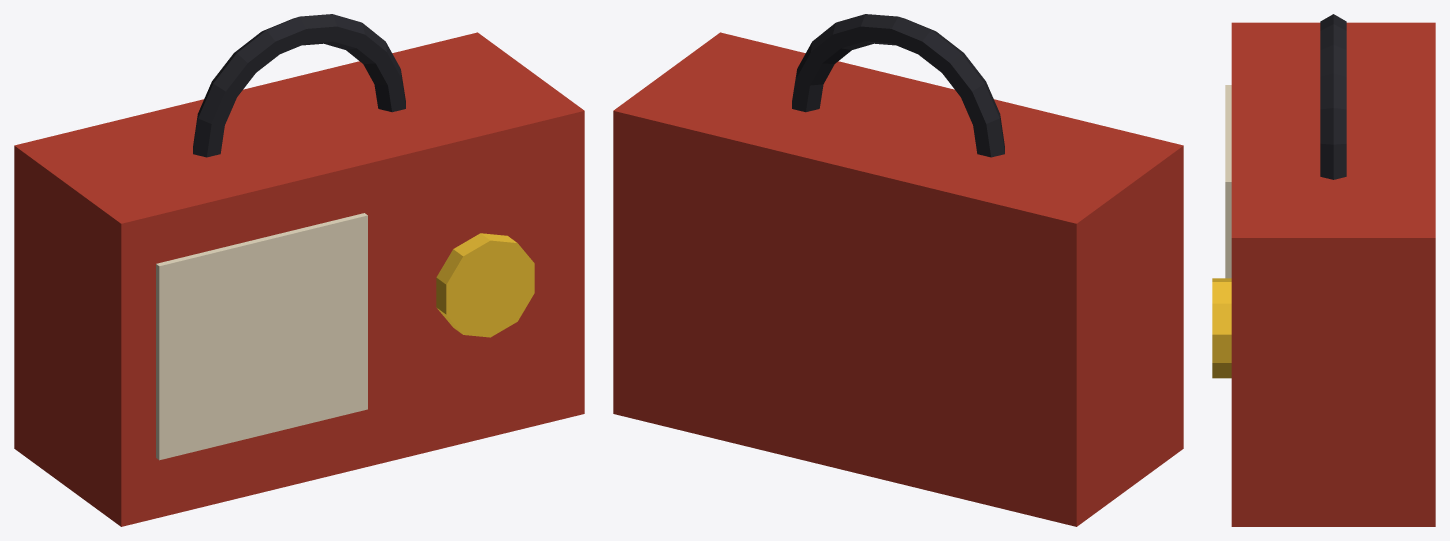
The model's file is pawn_radio.glb.
3 renders of one model, left to right at view 1: azimuth 30°, elevation 25°; view 2: azimuth 150°, elevation 25°; view 3: azimuth 270°, elevation 25°, orthographic. The views are drawn at different scales.
Parts seen in each view (by area): view 1: box_pawn_radio_red, grill_pawn_radio_grill, handle_pawn_radio_handle, dial_pawn_radio_dial; view 2: box_pawn_radio_red, handle_pawn_radio_handle; view 3: box_pawn_radio_red, handle_pawn_radio_handle, dial_pawn_radio_dial, grill_pawn_radio_grill.
Boxes of the visible parts, x1,y1,x2,y2 form: box_pawn_radio_red: (14,32,584,526); grill_pawn_radio_grill: (156,213,367,460); handle_pawn_radio_handle: (193,14,405,157); dial_pawn_radio_dial: (436,233,534,337); box_pawn_radio_red: (613,32,1183,526); handle_pawn_radio_handle: (792,14,1004,157); box_pawn_radio_red: (1231,22,1435,526); handle_pawn_radio_handle: (1320,14,1346,179); dial_pawn_radio_dial: (1212,278,1231,378); grill_pawn_radio_grill: (1225,85,1231,278).
Bounding box in the file's own units: 0.4 × 0.342 × 0.175.
